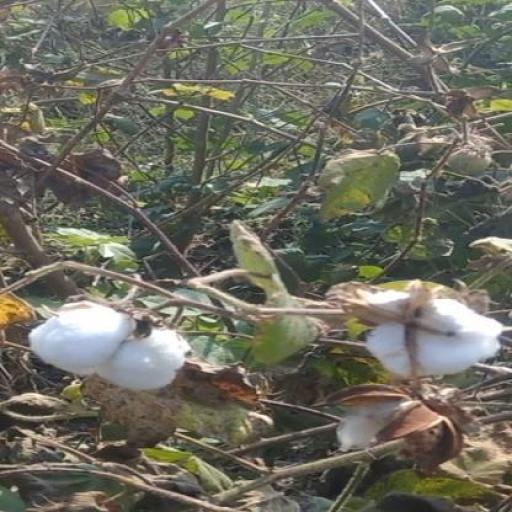cotton_ready: (8, 293, 196, 396), (344, 290, 494, 386)
